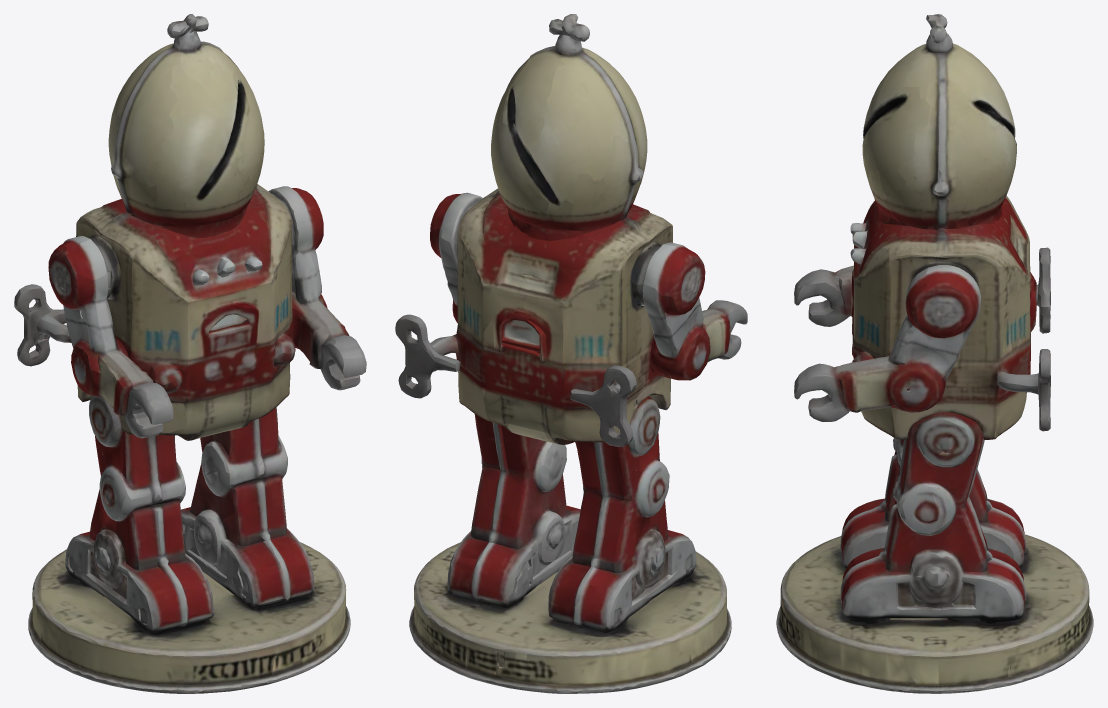
3 views of the same model, side by side, from view 1: azimuth 30°, elevation 25°; view 2: azimuth 150°, elevation 25°; view 3: azimuth 270°, elevation 25° (orthographic).
Visible parts, largest first — view 1: world; view 2: world; view 3: world.
Part boxes in pixels (box(x1,y1,x2,y2)): world: box(14, 14, 366, 693); world: box(395, 14, 747, 693); world: box(776, 14, 1093, 693).
Size of the model in its own units: 0.1201 by 0.25 by 0.1175.
Materials: 1 (1 with a texture image).
